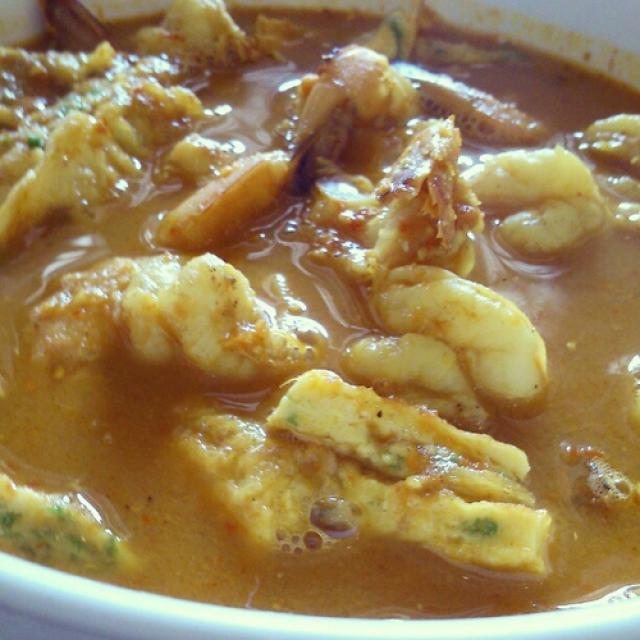汤锅炖物: (16, 18, 620, 599)
